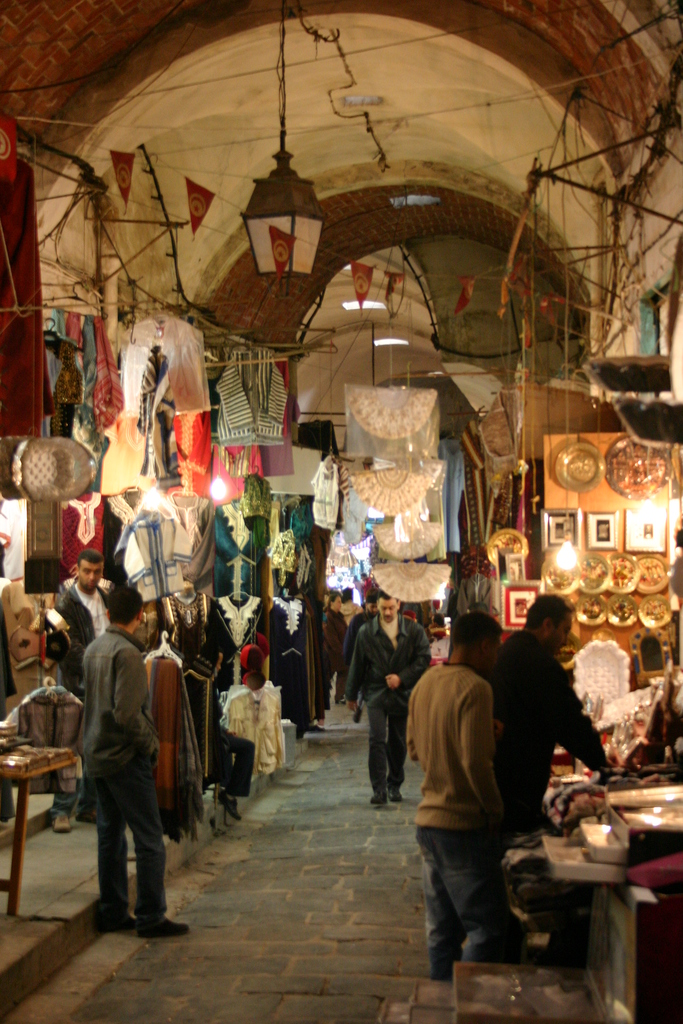Footwear: (131, 915, 192, 941), (215, 790, 245, 824), (370, 790, 403, 804), (54, 810, 74, 830), (303, 724, 327, 732)
